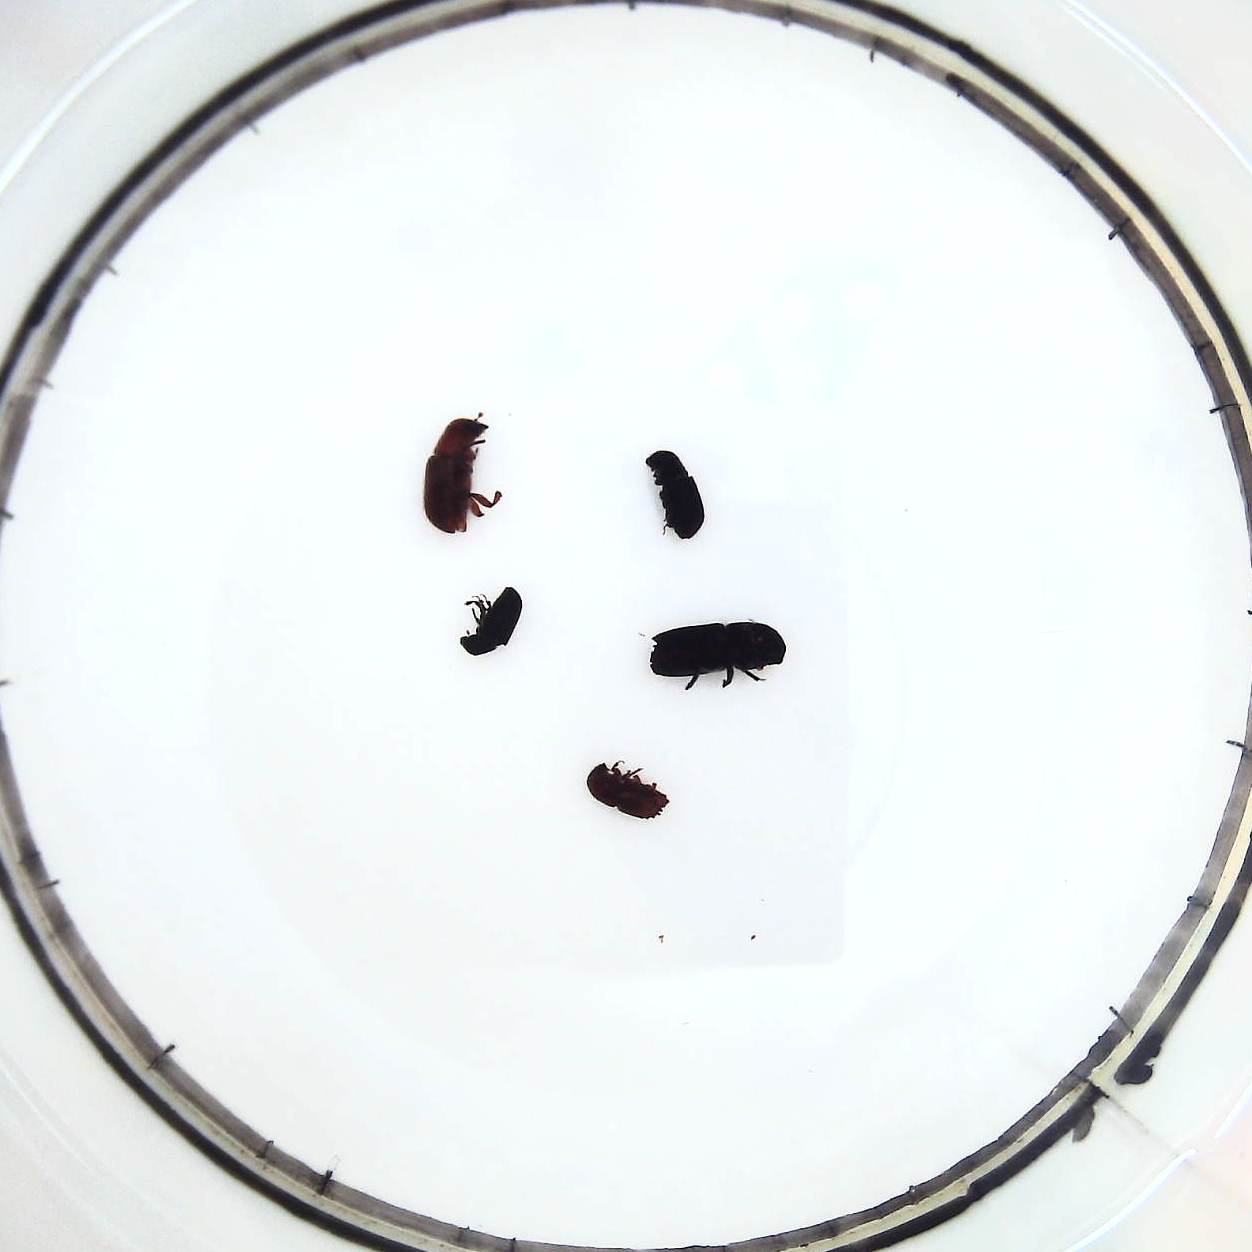Boerner: (649, 617, 793, 690)
Leconte: (420, 412, 503, 537)
armandi: (644, 443, 709, 546)
coleoptera: (457, 580, 525, 662)
linnaeus: (580, 757, 671, 825)
